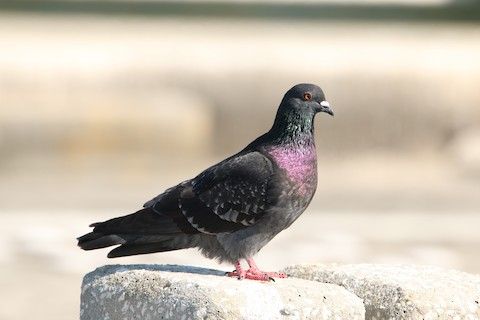pigeon: (75, 78, 338, 287)
